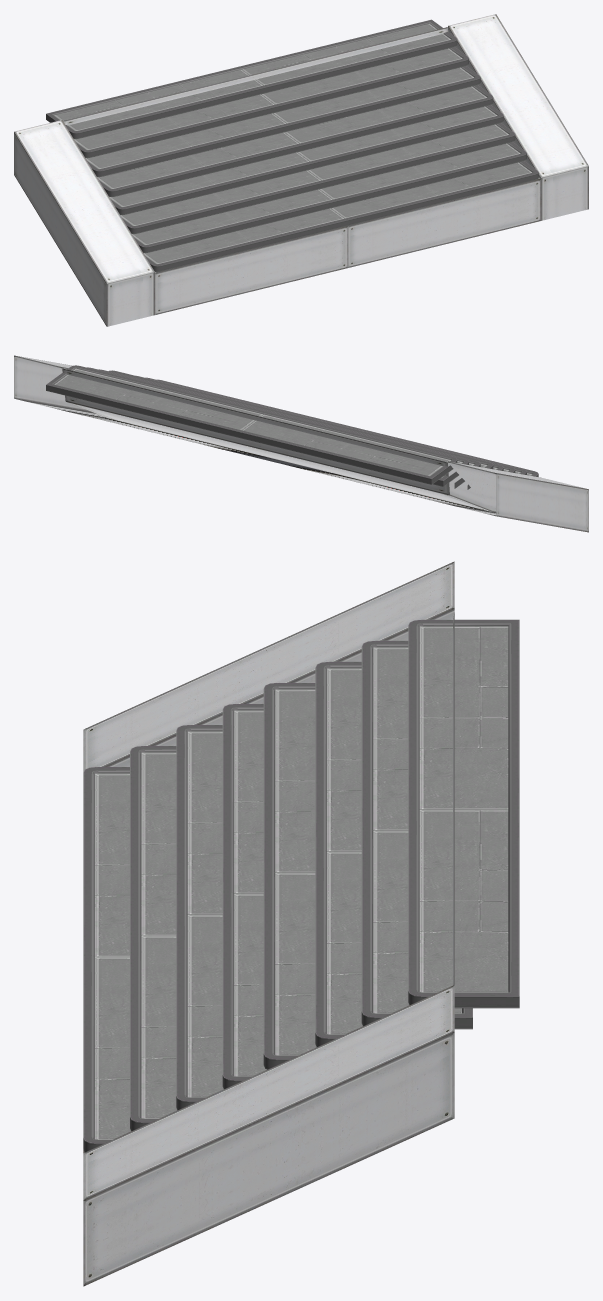
Rendered from CitDock_Stairs_A00.FBX.
3 views of the same model, one above another, from view 1: azimuth 30°, elevation 25°; view 2: azimuth 150°, elevation 25°; view 3: azimuth 270°, elevation 25° (orthographic). The views are drawn at different scales.
Parts seen in each view (by area): view 1: CitDock_Stairs_A00; view 2: CitDock_Stairs_A00; view 3: CitDock_Stairs_A00.
Part boxes in pixels (x1,y1,x2,y2): CitDock_Stairs_A00: (14,14,588,326); CitDock_Stairs_A00: (14,355,588,532); CitDock_Stairs_A00: (83,561,519,1286).
Size of the model in its own units: 6 by 1.51 by 2.35.
